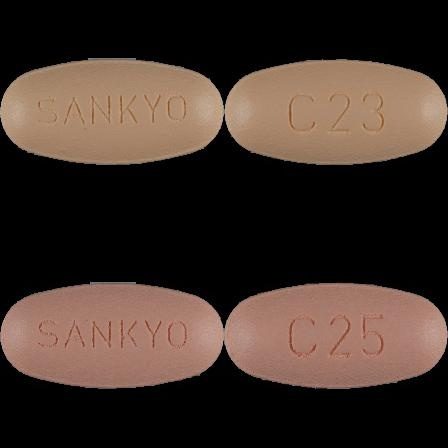55154-6128: (0, 0, 224, 224)
